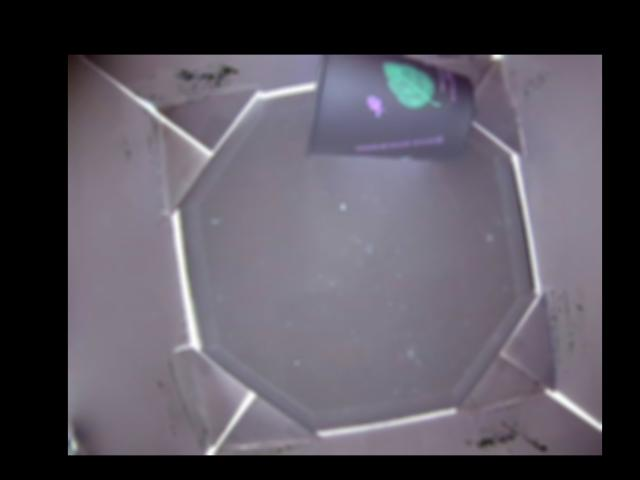Cup: (305, 55, 476, 160)
